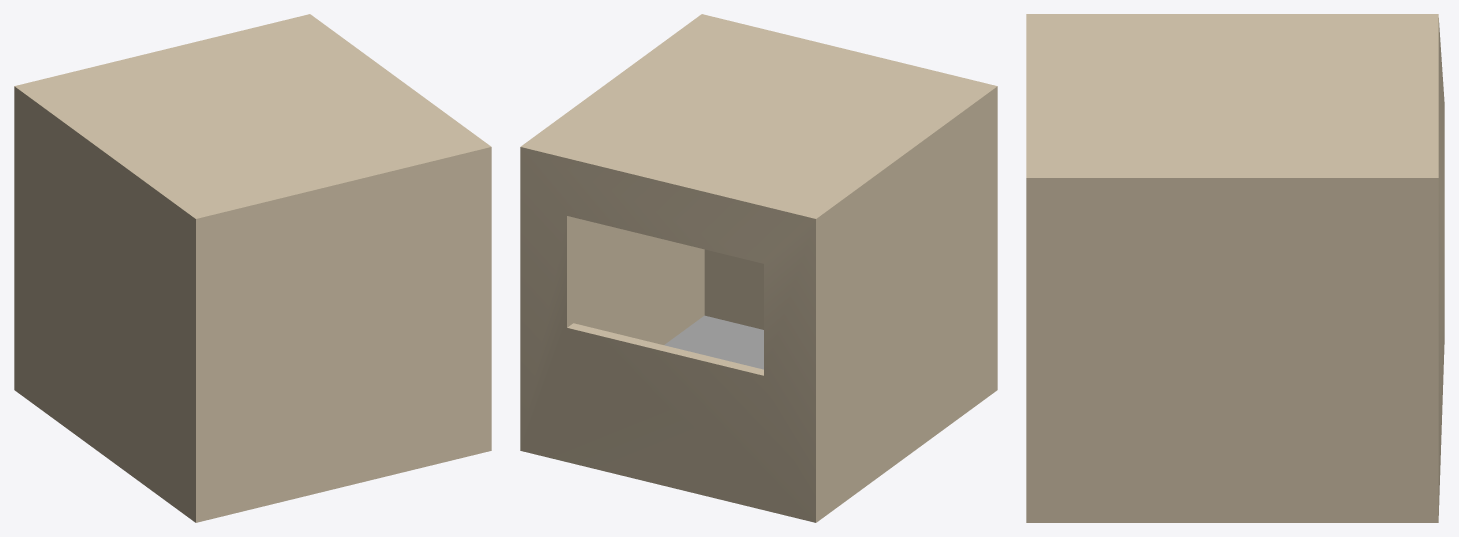
File: Art Room.fbx
The picture shows the model from 3 angles, left to right: view 1: azimuth 30°, elevation 25°; view 2: azimuth 150°, elevation 25°; view 3: azimuth 270°, elevation 25°; orthographic projection. The views are drawn at different scales.
Parts seen in each view (by area): view 1: polySurface338; view 2: polySurface338; view 3: polySurface338.
Part boxes in pixels (x1,y1,x2,y2): polySurface338: (14,14,491,522); polySurface338: (520,14,997,522); polySurface338: (1026,14,1444,522).
Bounding box in the file's own units: 2408 × 2365 × 2598.
